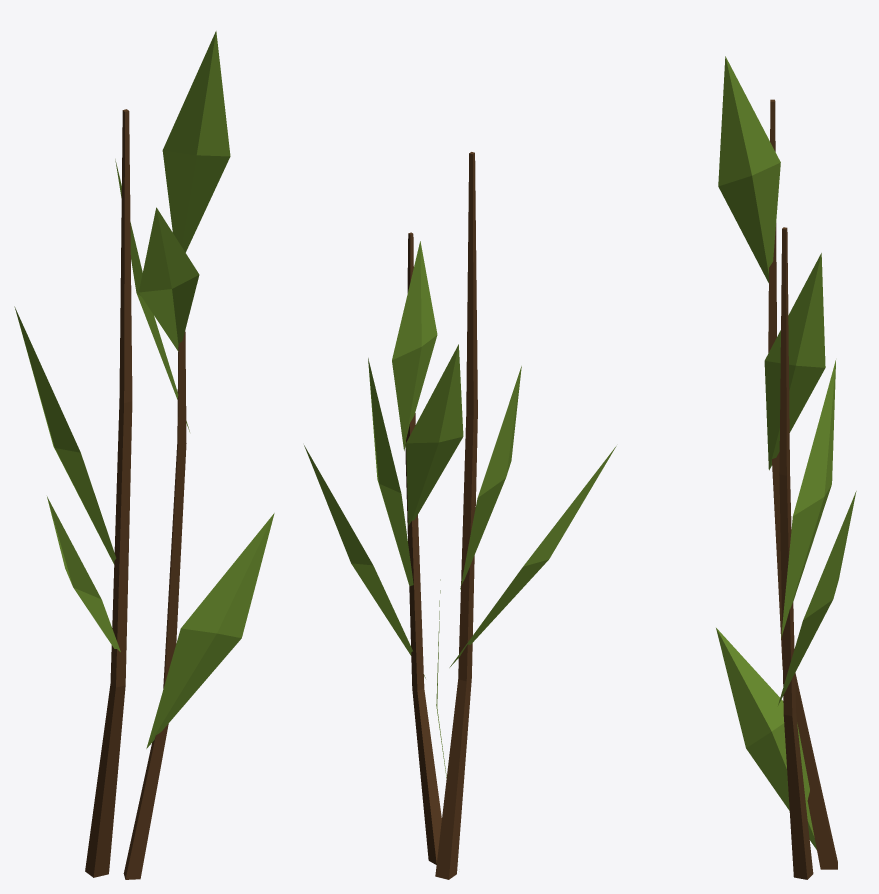
File: grass-reed-mature-b.gltf
3 renders of one model, left to right at view 1: azimuth 30°, elevation 25°; view 2: azimuth 150°, elevation 25°; view 3: azimuth 270°, elevation 25°, orthographic. The views are drawn at different scales.
Parts seen in each view (by area): view 1: grass-reed-mature-b; view 2: grass-reed-mature-b; view 3: grass-reed-mature-b.
Boxes of the visible parts, x1,y1,x2,y2 form: grass-reed-mature-b: (14, 31, 274, 879); grass-reed-mature-b: (304, 152, 616, 879); grass-reed-mature-b: (716, 56, 856, 879).
Bounding box in the file's own units: 0.00612 × 0.0196 × 0.00447.
